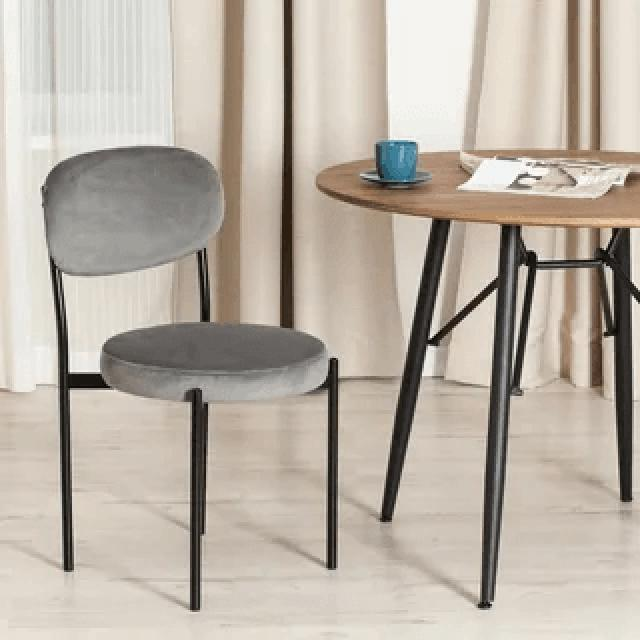chair: (32, 138, 344, 616), (31, 147, 330, 392)
